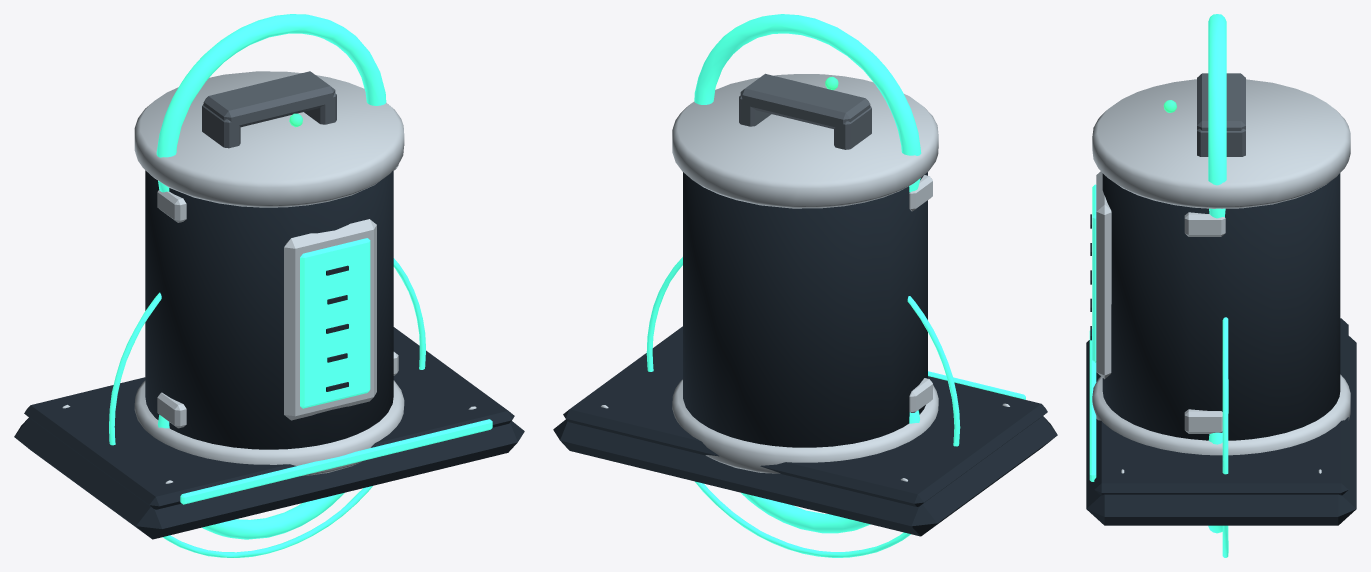
File: Artifact_Payload.glb
3 views of the same model, side by side, from view 1: azimuth 30°, elevation 25°; view 2: azimuth 150°, elevation 25°; view 3: azimuth 270°, elevation 25° (orthographic). The views are drawn at different scales.
Parts seen in each view (by area): view 1: Artifact_Payload_Body; view 2: Artifact_Payload_Body; view 3: Artifact_Payload_Body.
Boxes of the visible parts, left/top/right/bottom form: Artifact_Payload_Body: left=14, top=14, right=524, bottom=557; Artifact_Payload_Body: left=553, top=14, right=1057, bottom=557; Artifact_Payload_Body: left=1086, top=14, right=1356, bottom=557.
Size of the model in its own units: 2.1 by 2.78 by 1.32.
